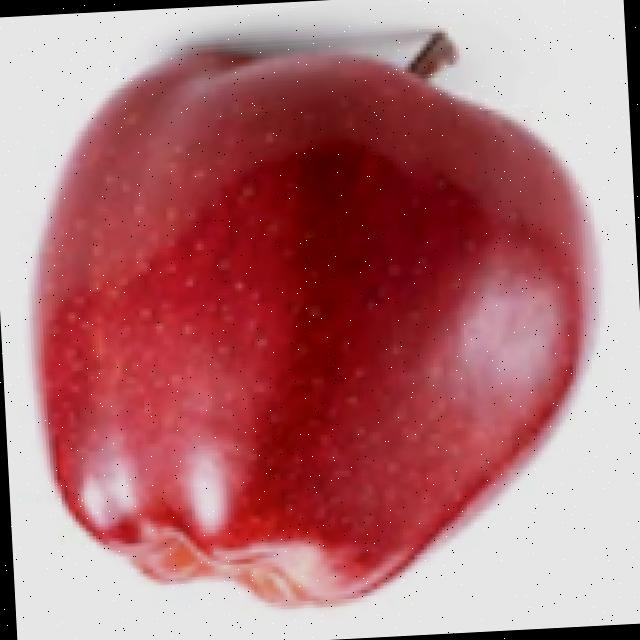Ripe: (14, 18, 616, 635)
